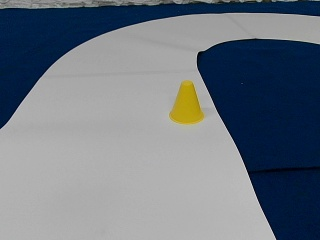cone: (170, 82, 203, 124)
